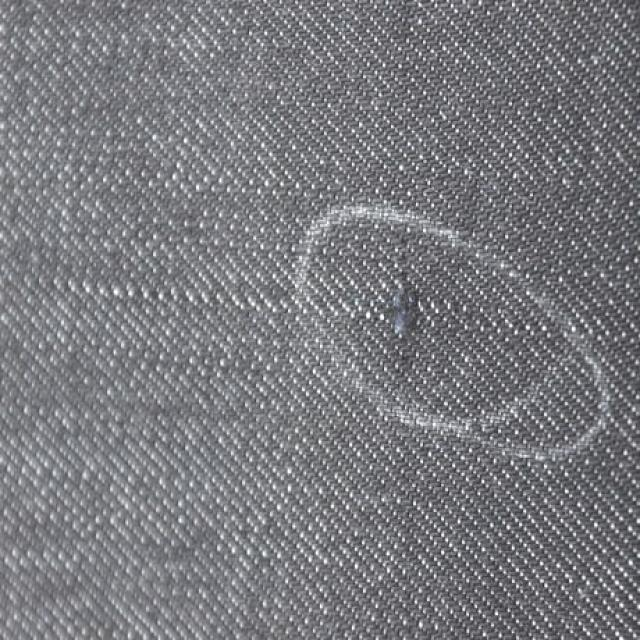stains: (37, 241, 486, 380)
